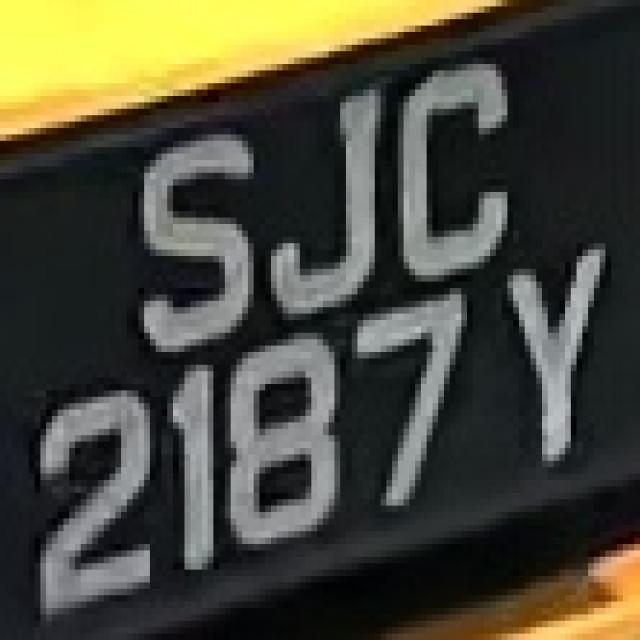1: (156, 339, 236, 589)
2: (35, 384, 173, 621)
7: (317, 275, 467, 544)
8: (213, 320, 352, 570)
C: (375, 38, 513, 288)
J: (254, 70, 392, 327)
S: (121, 115, 260, 358)
Y: (490, 243, 611, 480)
